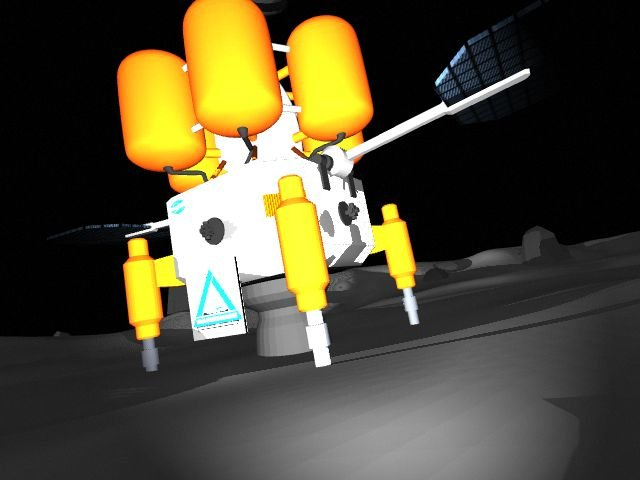basemarker: (194, 269, 244, 330)
